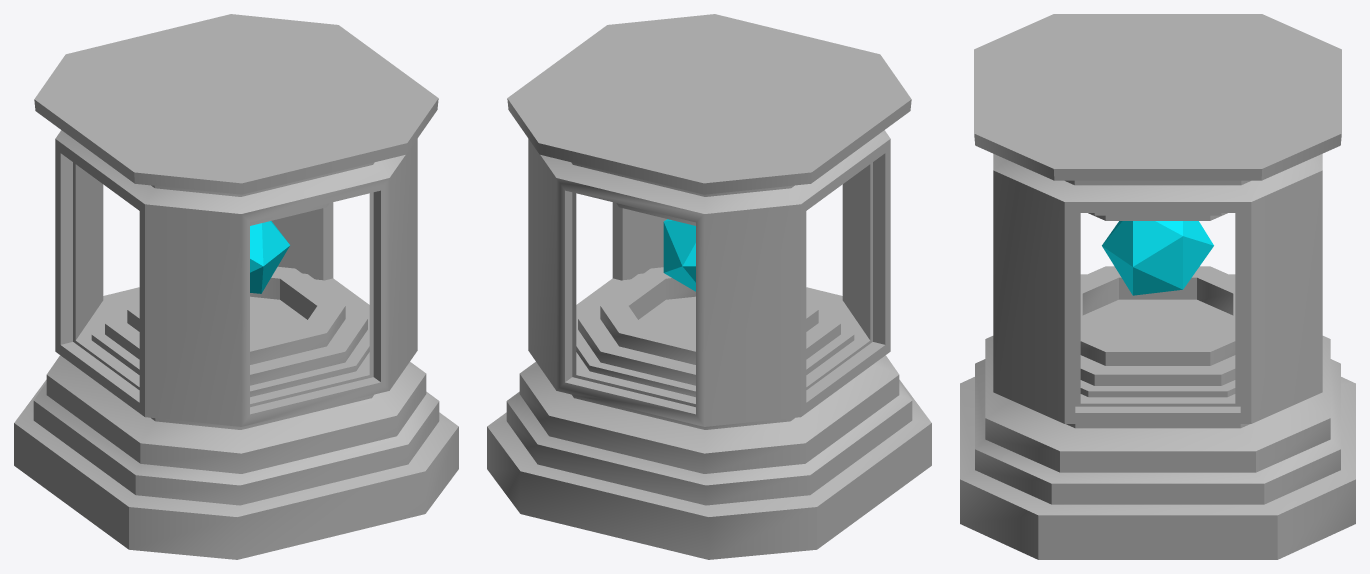
File: pedestal.glb
3 renders of one model, left to right at view 1: azimuth 30°, elevation 25°; view 2: azimuth 150°, elevation 25°; view 3: azimuth 270°, elevation 25°, orthographic. The views are drawn at different scales.
Visible parts, largest first — view 1: polySurface7; view 2: polySurface7; view 3: polySurface7.
Part boxes in pixels (<box>): polySurface7: <box>14,14,458,559</box>; polySurface7: <box>487,14,931,559</box>; polySurface7: <box>960,14,1355,559</box>.
Bounding box in the file's own units: 1.15 × 1.23 × 1.15.
